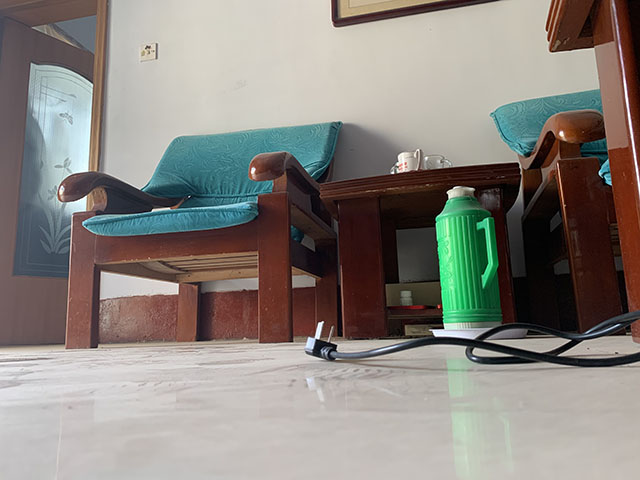sofa: (56, 119, 342, 352), (488, 88, 630, 338)
table: (318, 161, 523, 341)
wire: (302, 309, 640, 371)
